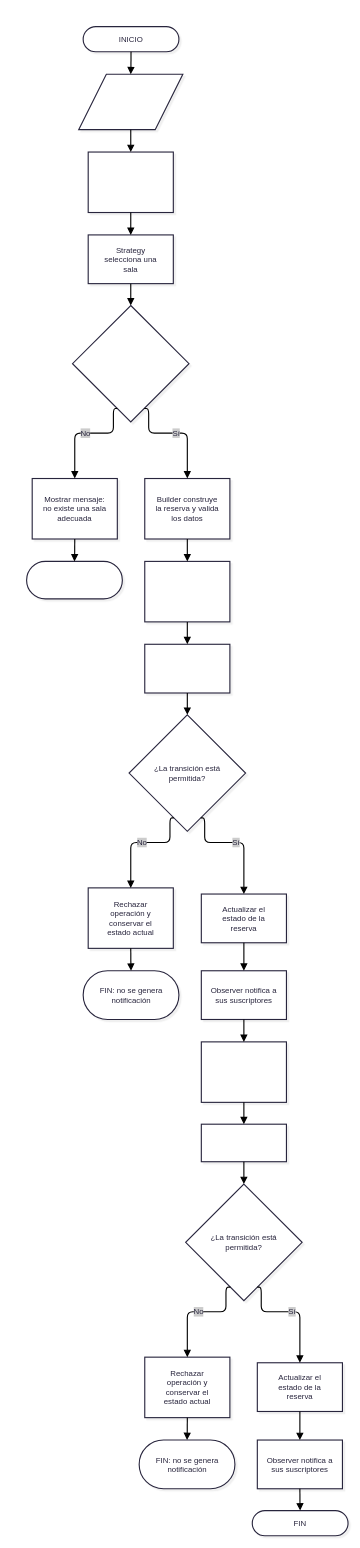
Image size: 360x1548. Some labels were removed from this diagram. Each missing label, with the centre of its shape:
El estudiante solicita cancelar o finalizar según el estado: the point at 244,1073
El sistema consulta las salas disponibles: the point at 131,183
Estudiante registra los datos de la solicitud: the point at 131,102
Facade registra la reserva y coordina la confirmación: the point at 188,592
FIN: no se crea la reserva: the point at 75,581
State valida el cambio de estado: the point at 188,669
State valida la nueva transición: the point at 244,1143
¿Hay una sala adecuada?: the point at 132,364
